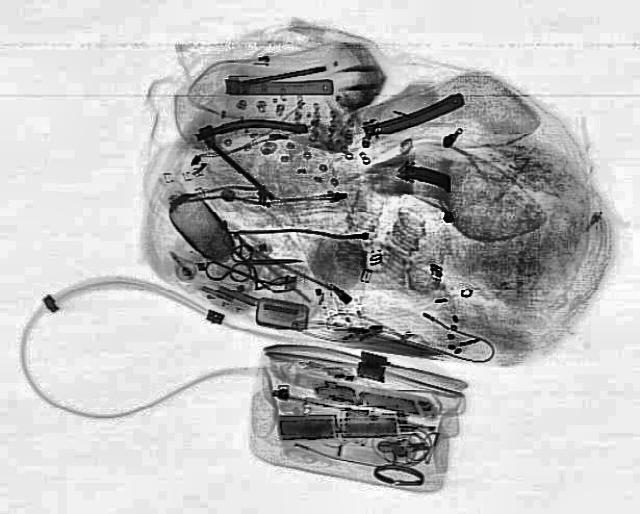Scissors: (230, 244, 300, 282)
